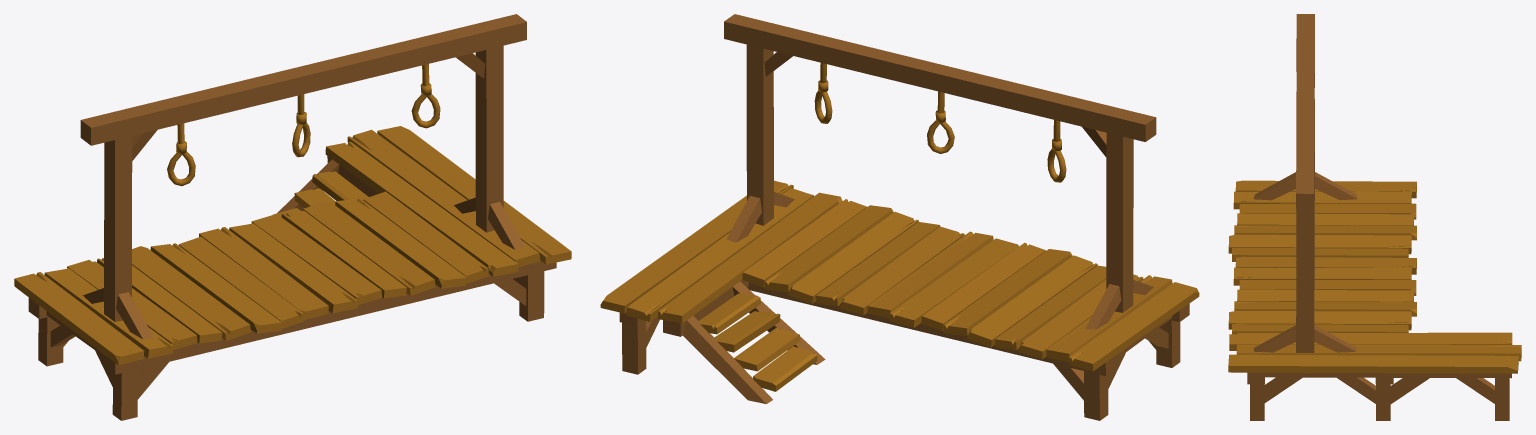
The model's file is forca_3.fbx.
3 views of the same model, side by side, from view 1: azimuth 30°, elevation 25°; view 2: azimuth 150°, elevation 25°; view 3: azimuth 270°, elevation 25° (orthographic). The views are drawn at different scales.
Visible parts, largest first — view 1: forca_3; view 2: forca_3; view 3: forca_3.
Part boxes in pixels (left/top/right/bottom): forca_3: left=14, top=14, right=571, bottom=420; forca_3: left=600, top=14, right=1199, bottom=420; forca_3: left=1228, top=14, right=1521, bottom=420.
Size of the model in its own units: 698 by 405 by 464.
